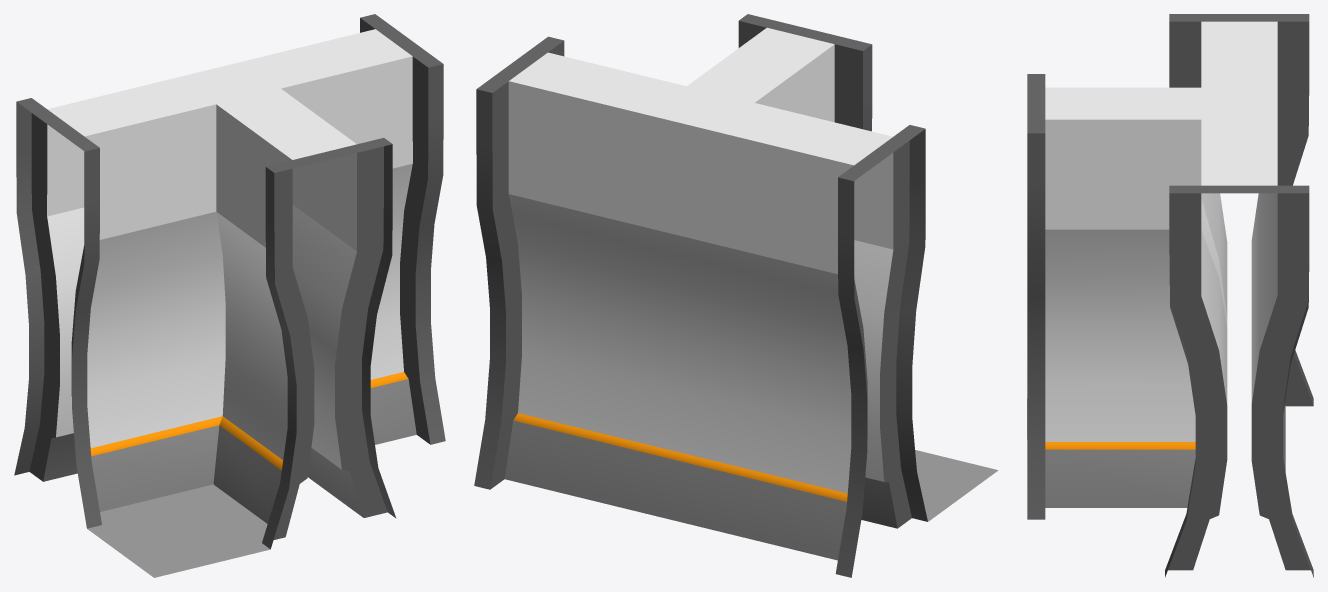
The model's file is SM_ExteriorWall_T_02.fbx.
The picture shows the model from 3 angles, left to right: view 1: azimuth 30°, elevation 25°; view 2: azimuth 150°, elevation 25°; view 3: azimuth 270°, elevation 25°; orthographic projection. The views are drawn at different scales.
Visible parts, largest first — view 1: SM_ExteriorWall_T_02; view 2: SM_ExteriorWall_T_02; view 3: SM_ExteriorWall_T_02.
Part boxes in pixels (<box>): SM_ExteriorWall_T_02: <box>14,14,445,577</box>; SM_ExteriorWall_T_02: <box>474,14,998,577</box>; SM_ExteriorWall_T_02: <box>1027,14,1313,577</box>.
Size of the model in its own units: 200 by 200 by 135.
1 material, 1 textured.
